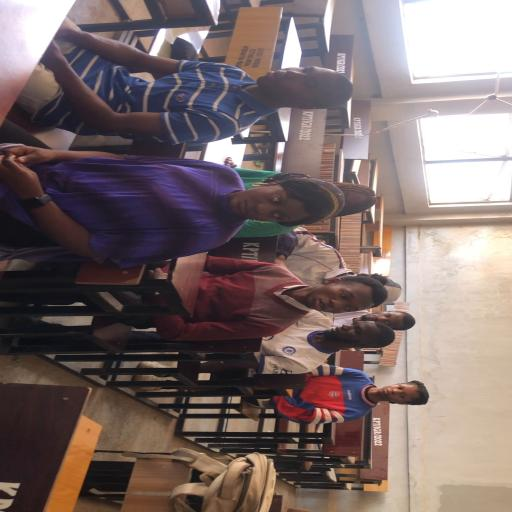Usingmobile: (0, 3, 362, 274)
